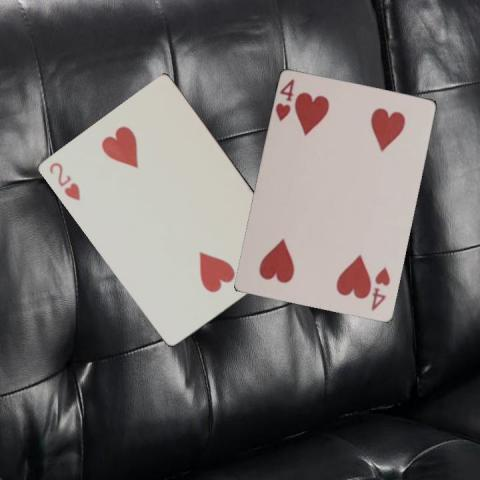2h: (47, 159, 82, 202)
4h: (368, 264, 392, 313), (273, 76, 296, 123)
